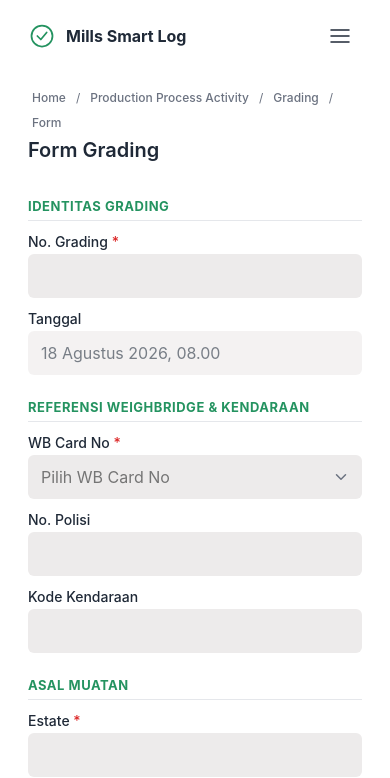
Scenario: FormGradingView › auto-fills license_plate_no/estate_supplier/division when a WB Card No option is selected
Focus the dropdown labelled "WB Card No *" at coordinates (195, 477), box [28,455,362,499]
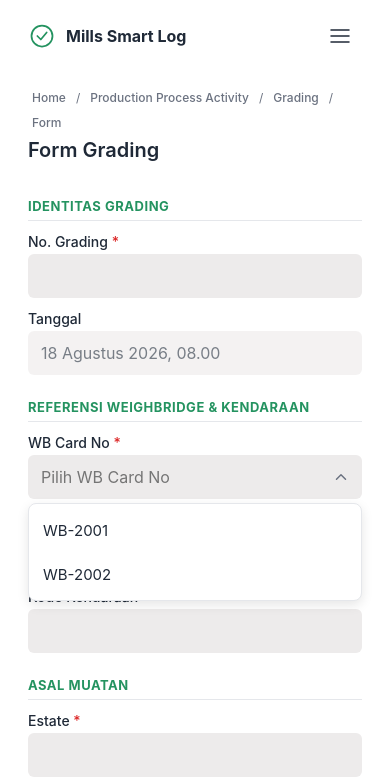
Press the mouse on the option "WB-2001" at coordinates (76, 530), box [43,520,108,540]
(page scrolled)
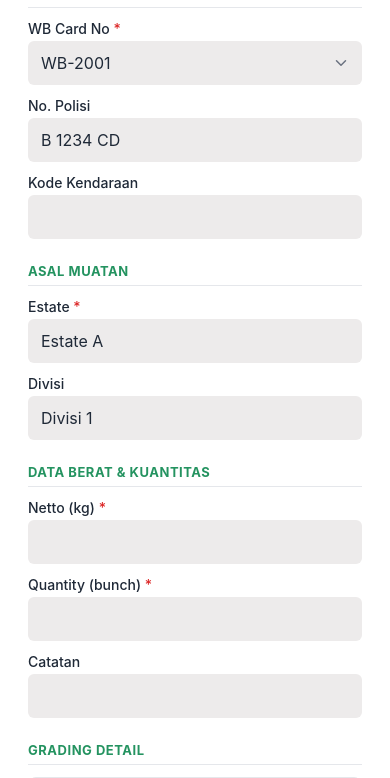
Result: the field with id "field-license-plate-no" holds "B 1234 CD" at [28,118,362,162]
Result: the field with id "field-estate" holds "Estate A" at [28,319,362,363]
Result: the field with id "field-divisi" holds "Divisi 1" at [28,396,362,440]
